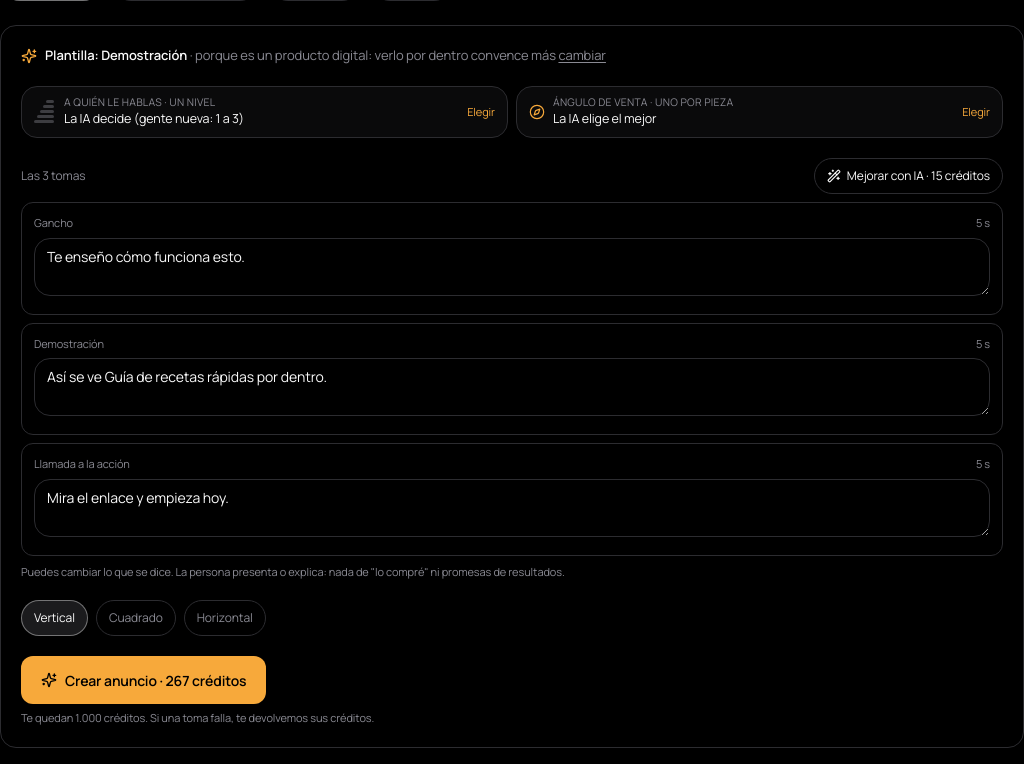
Test: Anuncio en video · continuidad de las 3 tomas › si falla la toma 1, no se crean (ni cobran) la 2 y la 3, y lo dice
The image size is (1024, 764).
(page scrolled)
Click the button "Crear anuncio · 267 créditos": (144, 680) [21,656,266,704]
(page scrolled)
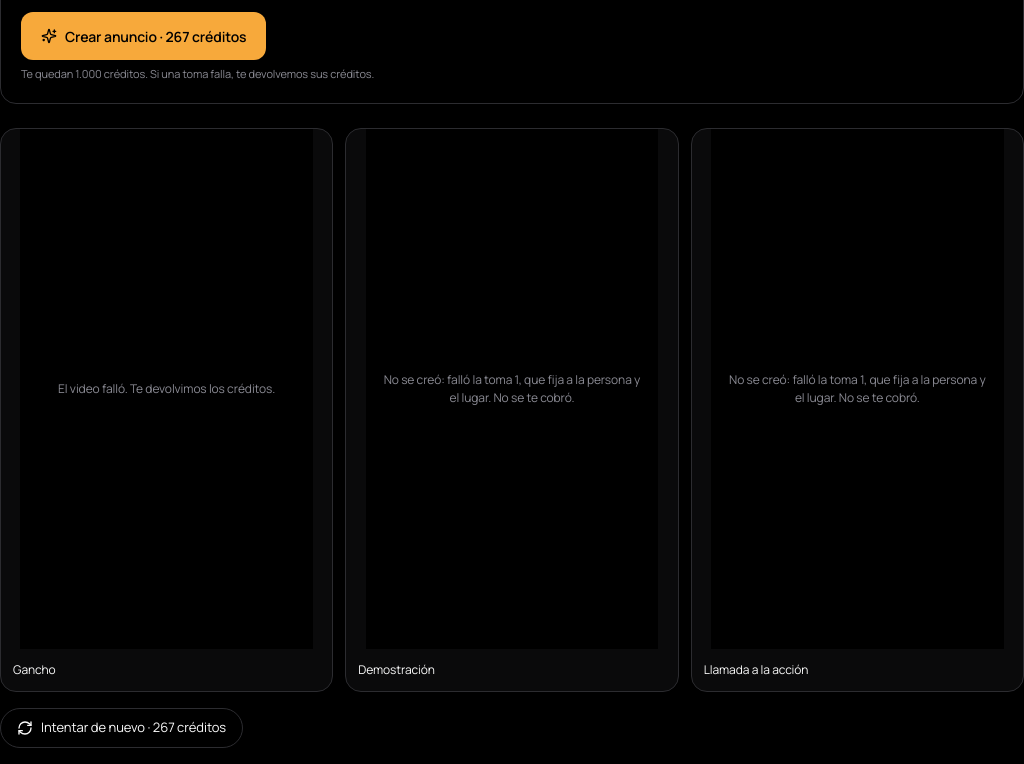
Result: the text "falló la toma 1, que fija a la persona y el lugar. No se te cobró" is shown 2 times at [382,370,642,406]; [727,370,988,406]
Result: the button "Intentar de nuevo · 267 créditos" is shown at [0,708,243,748]
